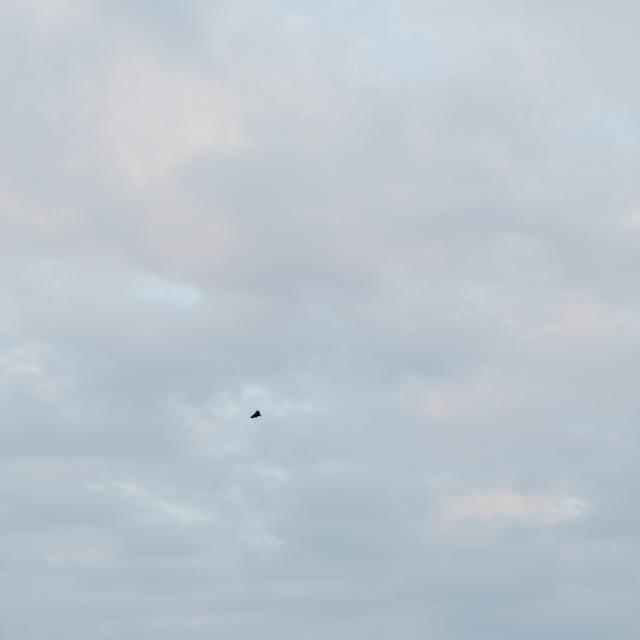Airaplan: (250, 410, 262, 419)
